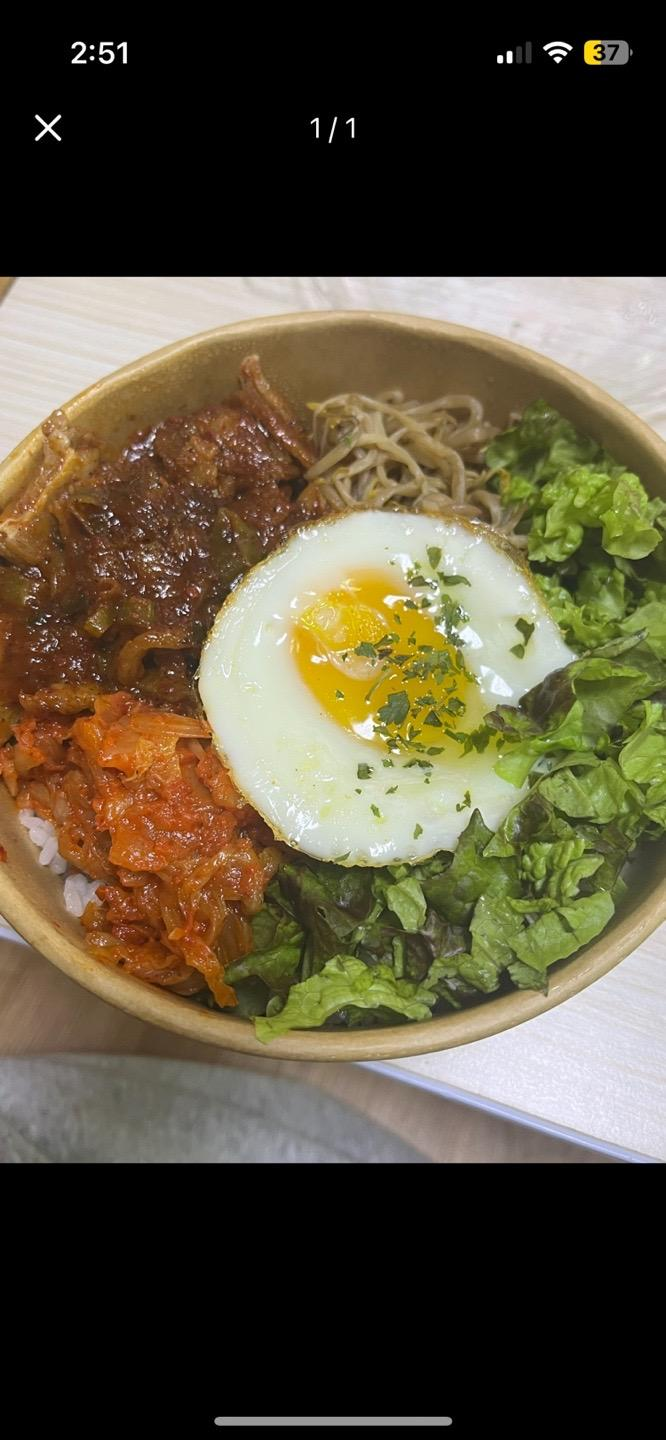Lunch Box: (0, 313, 665, 1060)
